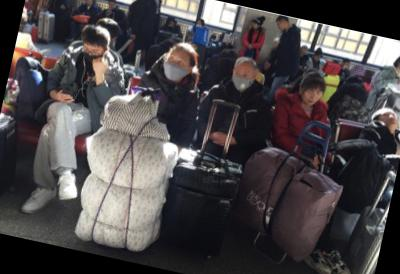with_mask: (160, 51, 192, 84), (229, 67, 256, 95), (78, 44, 103, 69), (195, 21, 204, 30)
without_mask: (299, 84, 325, 108), (376, 108, 400, 131), (276, 20, 285, 32), (108, 2, 116, 10), (343, 60, 350, 68), (252, 20, 258, 29), (314, 54, 321, 61), (300, 49, 307, 56), (168, 21, 175, 28), (399, 59, 400, 74)
